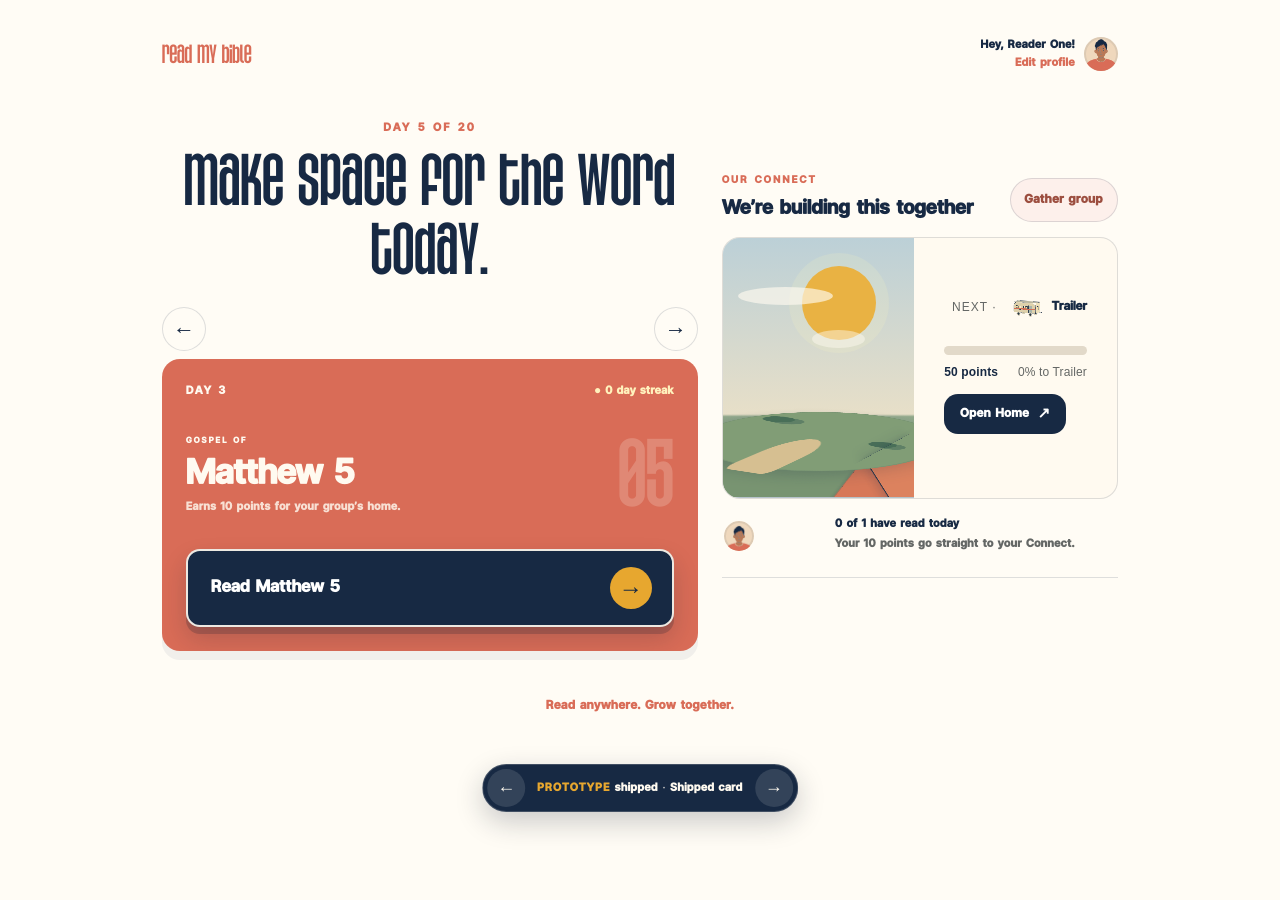
TodayScreen wires the same unlock into its own Home › keeps the 3D Campfire locked there too, from the same roster-derived unlock
The width and height of the screenshot is (1280, 900).
Click the button "Open Home ↗".
click(1005, 414)  # box [944, 394, 1066, 434]
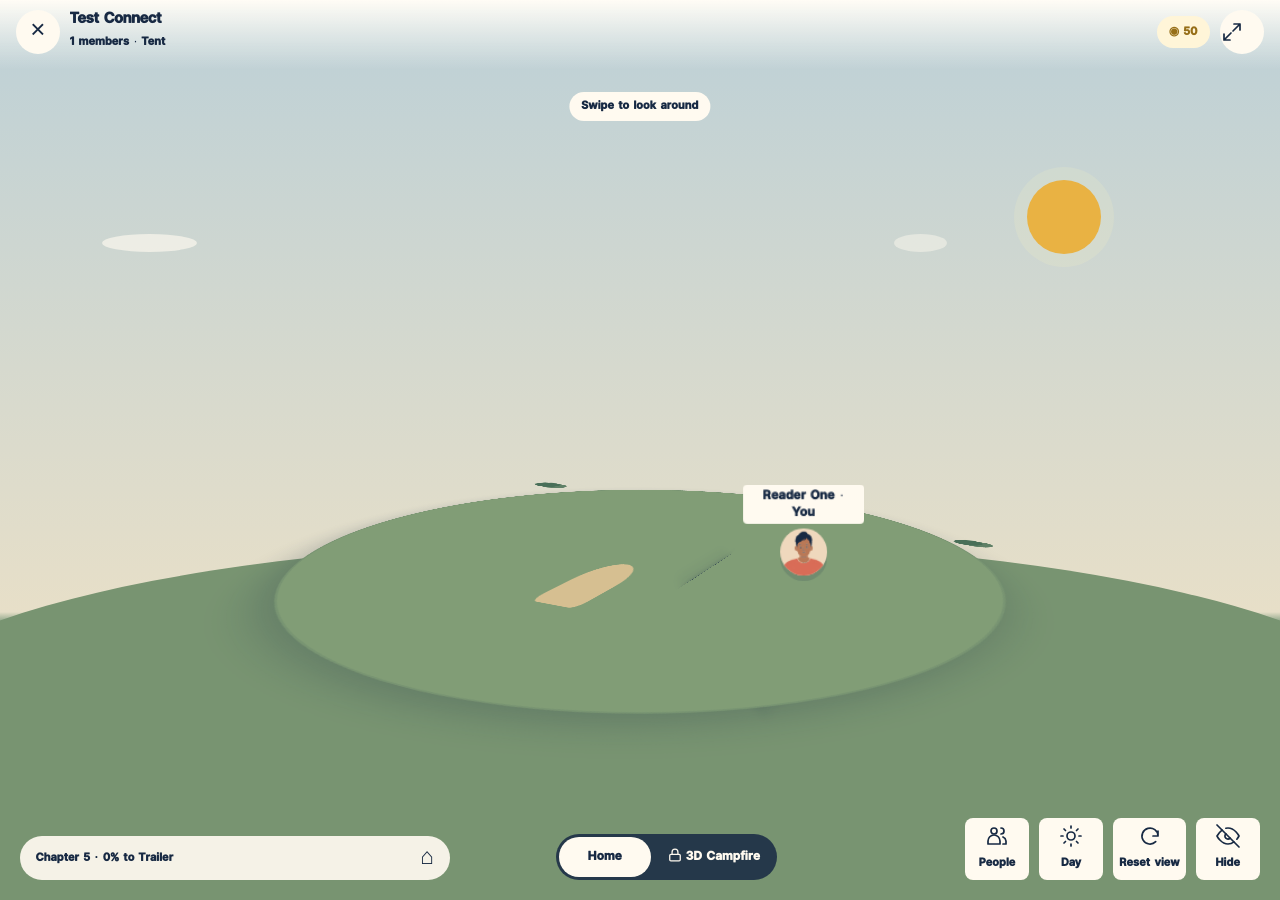
Expected: the button with aria-label "3D Campfire (locked)" is shown, [654, 837, 774, 877]
